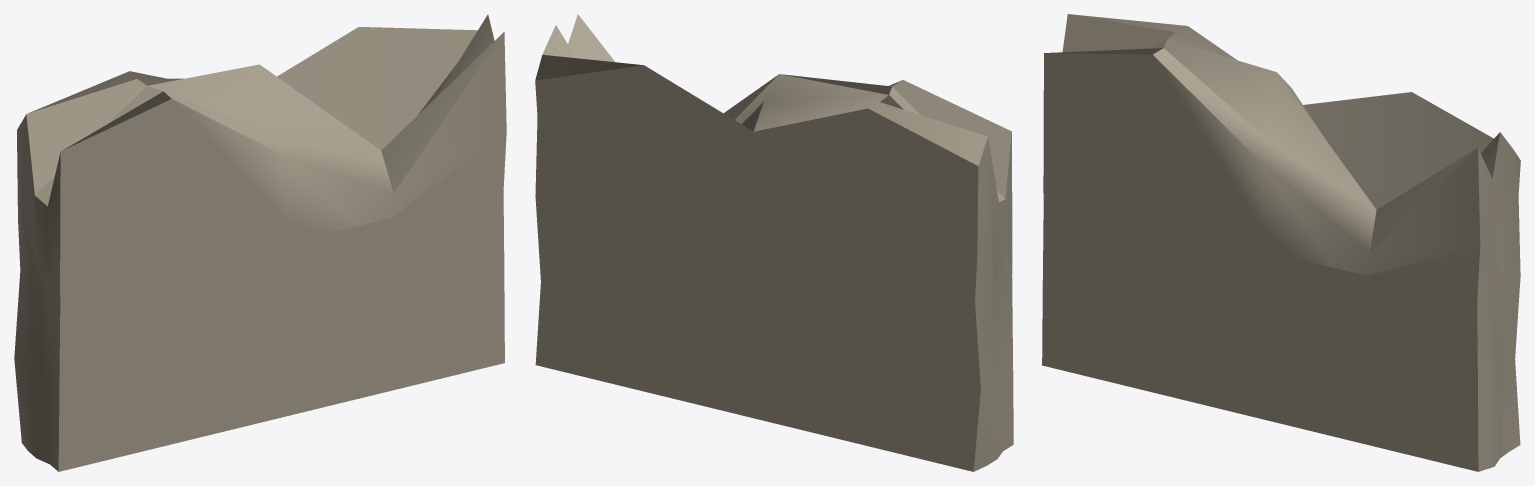
Rendered from wall_broken.glb.
3 renders of one model, left to right at view 1: azimuth 30°, elevation 25°; view 2: azimuth 150°, elevation 25°; view 3: azimuth 330°, elevation 25°, orthographic. The views are drawn at different scales.
Visible parts, largest first — view 1: wall_broken; view 2: wall_broken; view 3: wall_broken.
Boxes of the visible parts, left/top/right/bottom form: wall_broken: left=14, top=14, right=506, bottom=471; wall_broken: left=535, top=14, right=1013, bottom=471; wall_broken: left=1042, top=14, right=1520, bottom=471.
Bounding box in the file's own units: 3.06 × 2.2 × 0.45.
